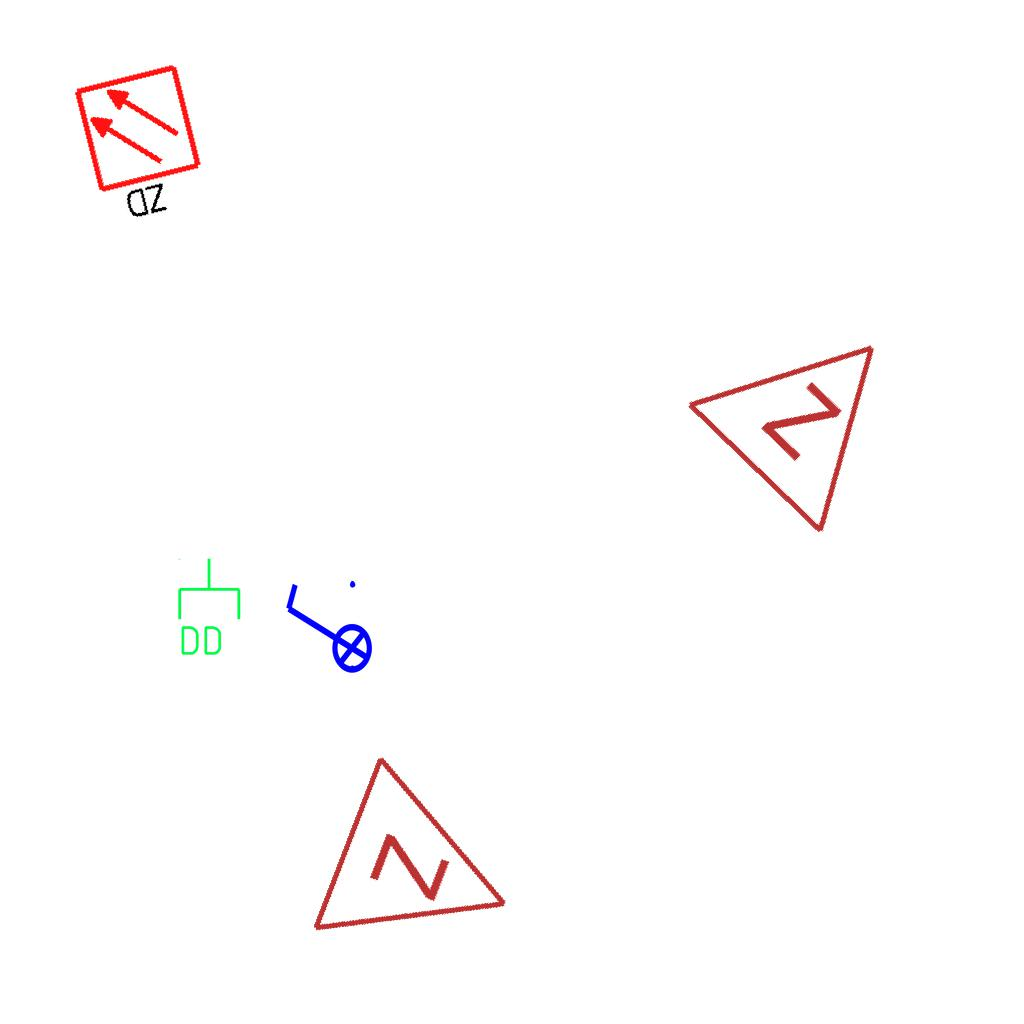Ausschalter_beleuchtet: (278, 575, 374, 687)
Datenanschluss_zweifach: (174, 556, 243, 659)
ZD_Melder_in_Zwischendecke_mit_Revisionsoeffnung_mind_40_x_40_cm: (70, 60, 218, 233)
Zimmersignalleuchte: (671, 266, 951, 548), (297, 743, 555, 999)
